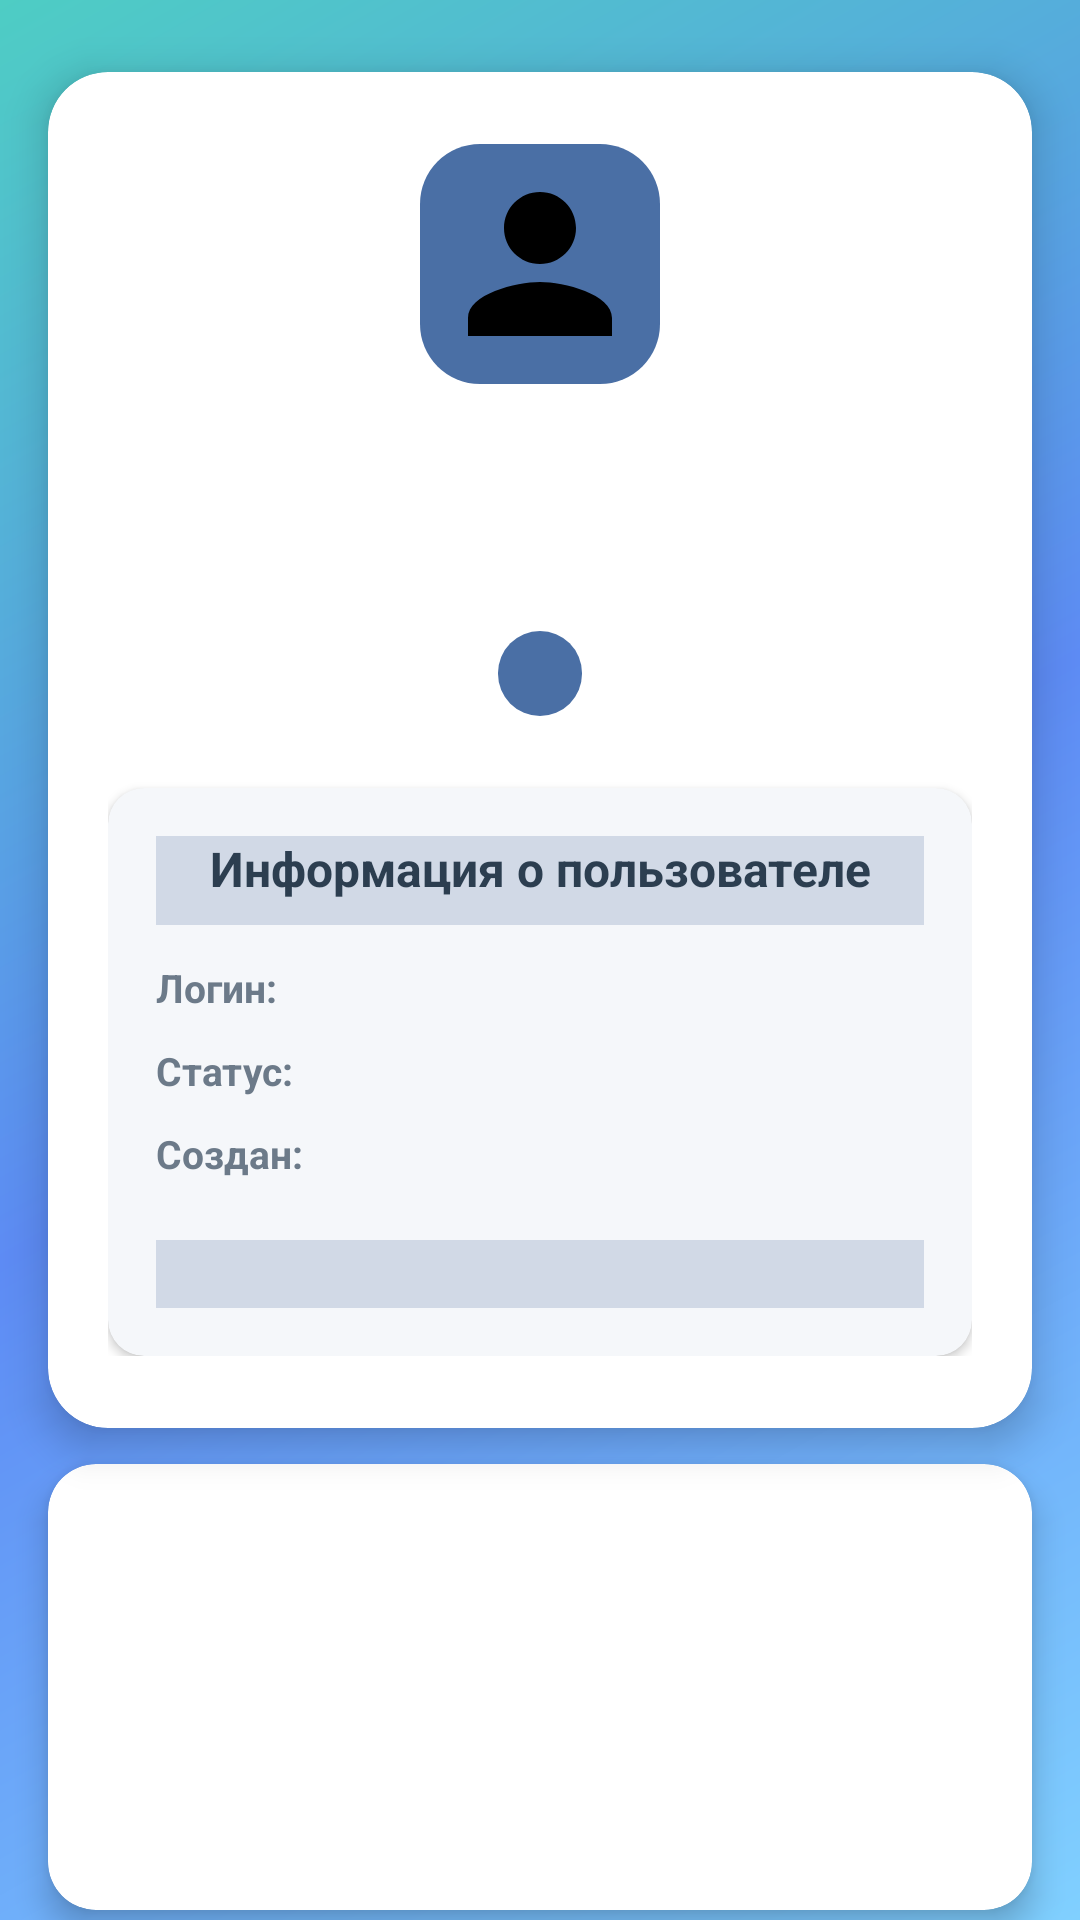

Icons on this 1080x1920 Android screen, each with the point to tap as (x=x, y=y):
profile: (x=540, y=264)
